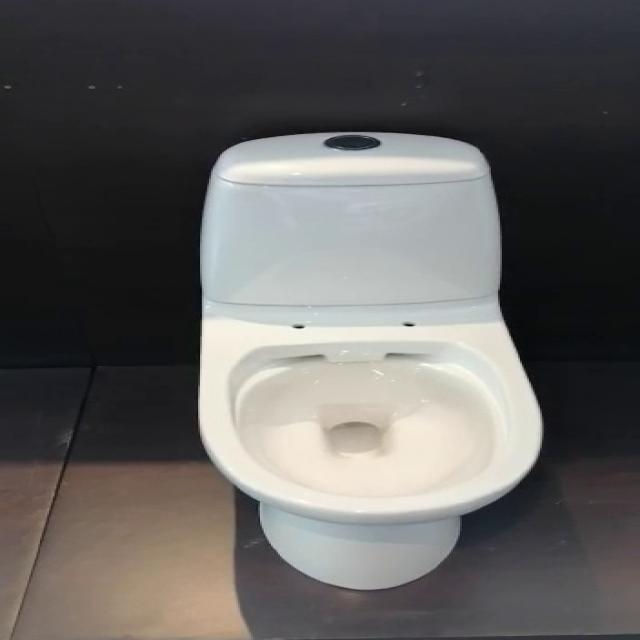toilet: (196, 130, 544, 590)
